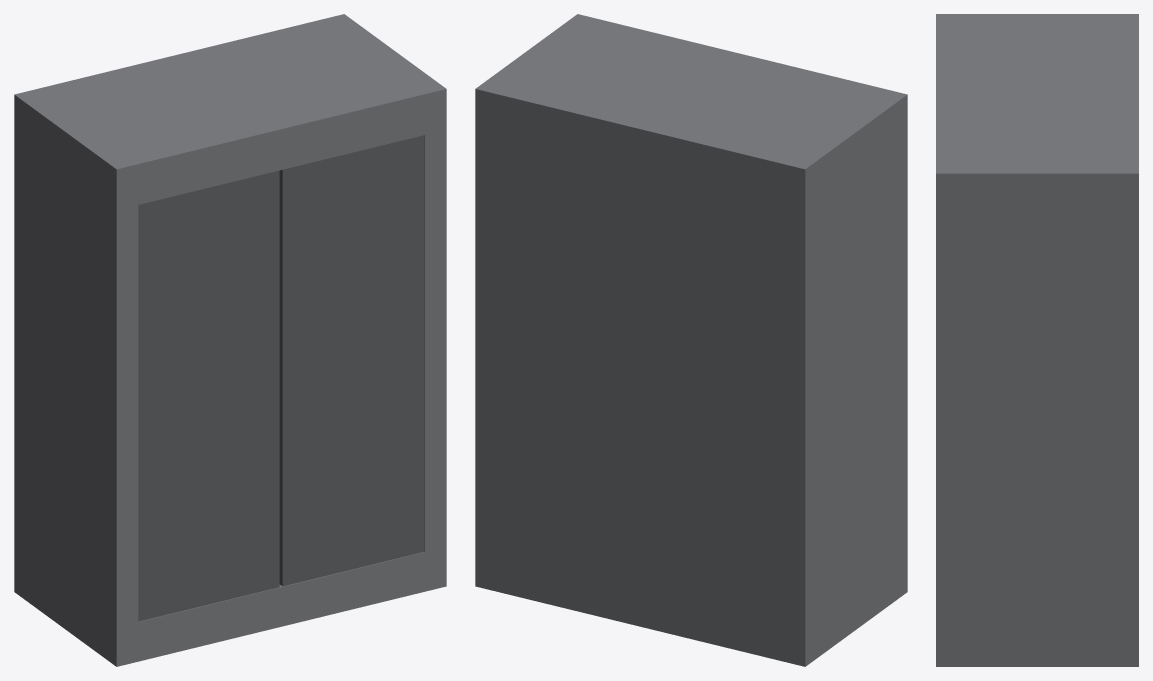
The model's file is cabinet-short.fbx.
The picture shows the model from 3 angles, left to right: view 1: azimuth 30°, elevation 25°; view 2: azimuth 150°, elevation 25°; view 3: azimuth 270°, elevation 25°; orthographic projection.
Visible parts, largest first — view 1: cabinet, L_door, R_door; view 2: cabinet; view 3: cabinet.
Part boxes in pixels (bbox=[...]): cabinet: bbox=[14, 14, 446, 666]; L_door: bbox=[279, 135, 424, 586]; R_door: bbox=[138, 170, 279, 621]; cabinet: bbox=[475, 14, 907, 666]; cabinet: bbox=[936, 14, 1138, 666].
Size of the model in its own units: 112 by 162 by 60.35.
